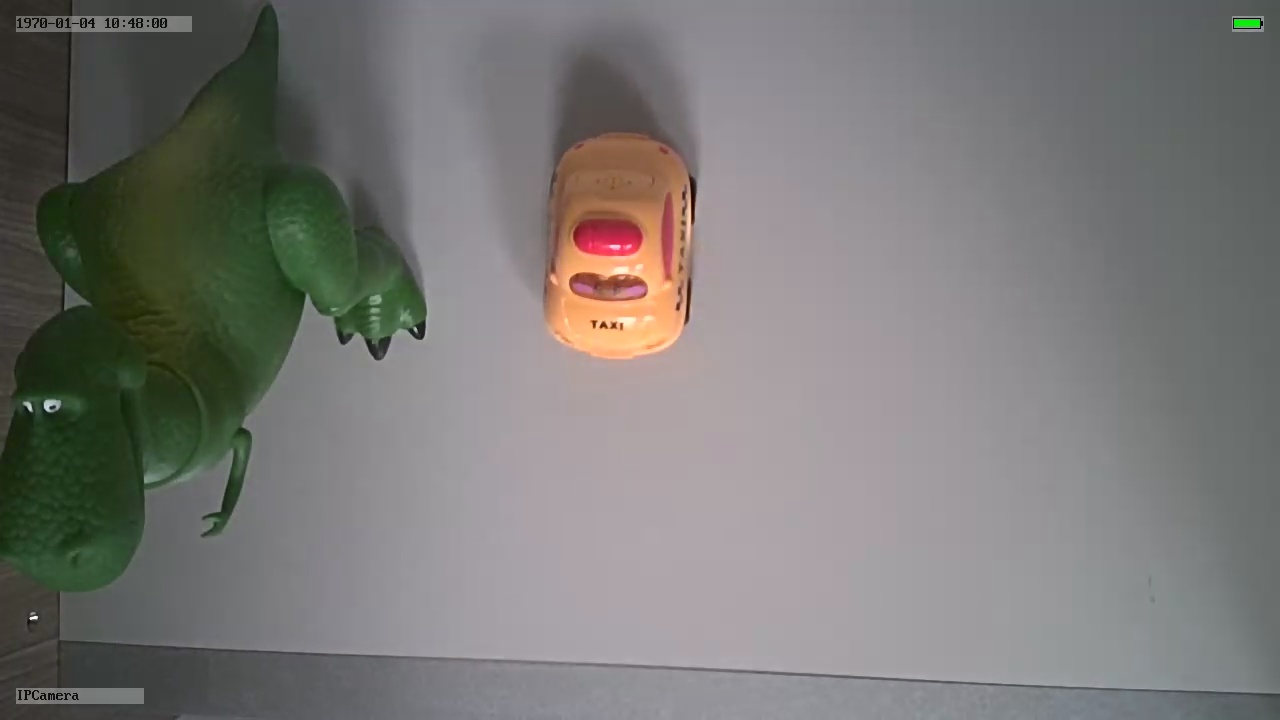car: (540, 127, 701, 364)
rex: (1, 102, 427, 594)
